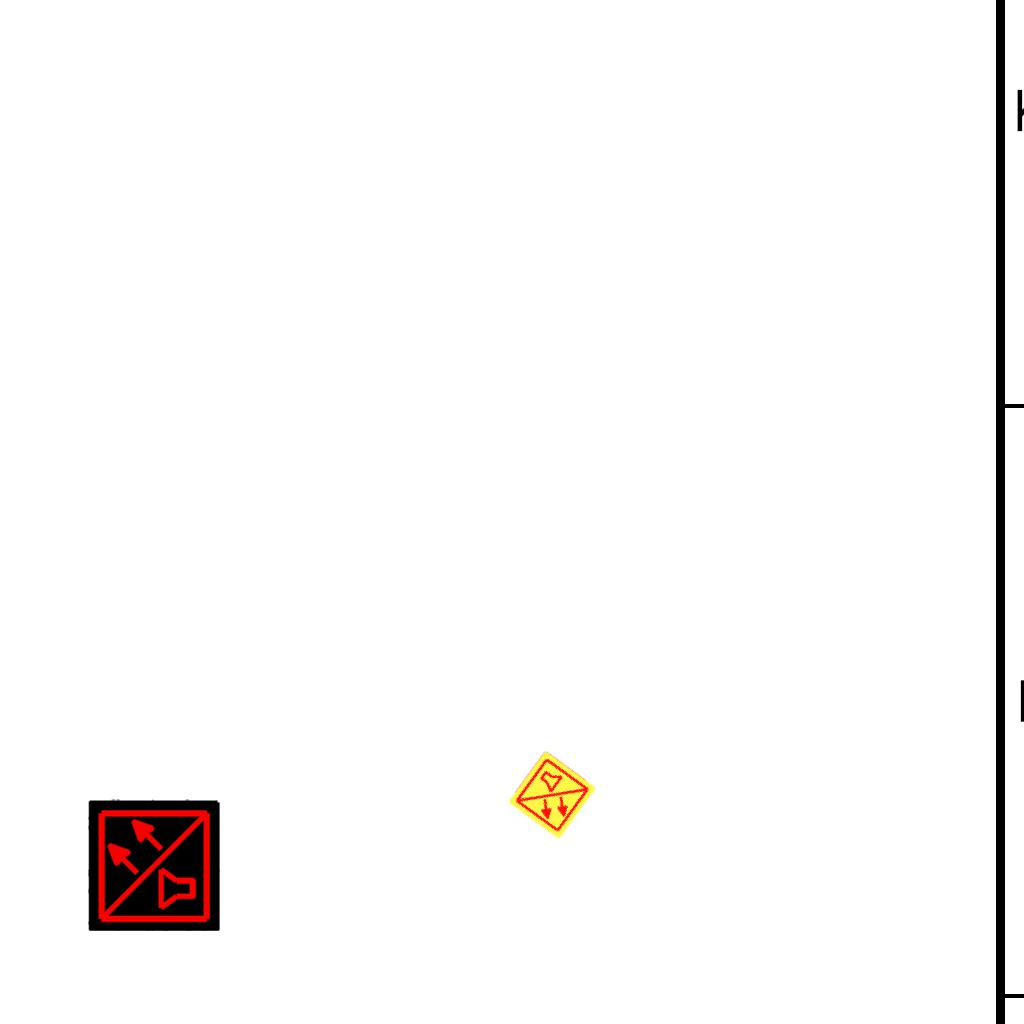OKW_Multisensormelder_(Kombination_optischer_Rauch-Kahlenmonoxid_Waerme-Melder): (88, 799, 220, 931), (505, 748, 599, 842)
